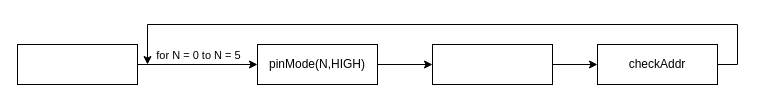
The diagram is 763 pixels wide and 102 high, and some of its shapes have lost their labels. The centre of each missing label's shape, as x and y in pixels:
All shutdowns pinds = LOW: the point at 77,64
setAddr(0x29+N): the point at 492,64
